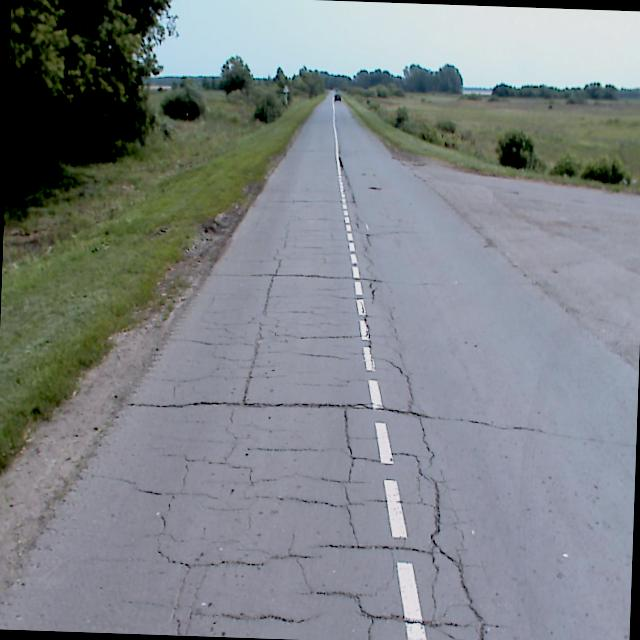road: (0, 90, 640, 640)
